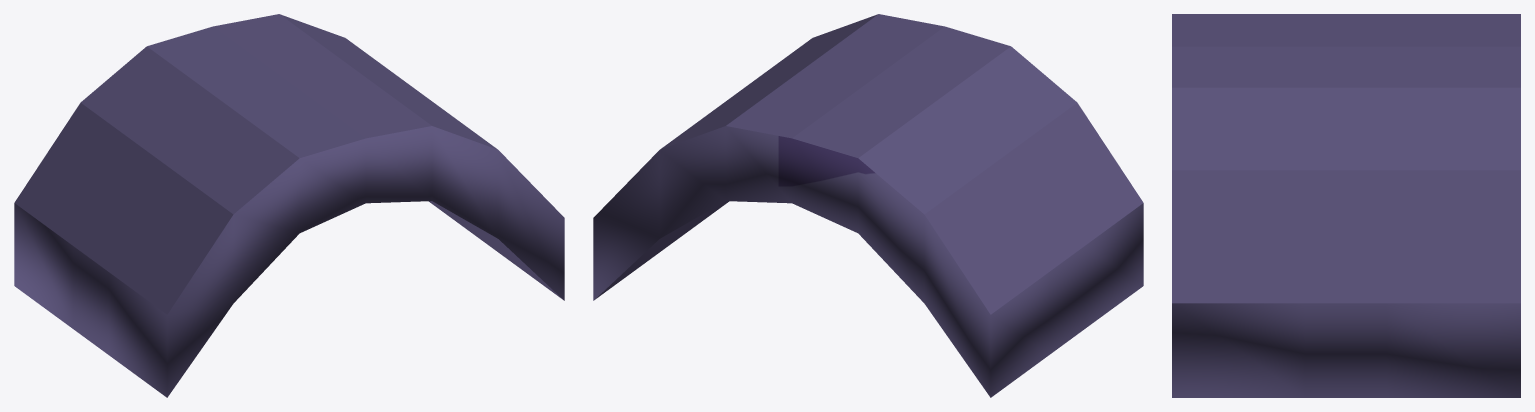
The model's file is road_rise_singular.obj.
The picture shows the model from 3 angles, left to right: view 1: azimuth 30°, elevation 25°; view 2: azimuth 150°, elevation 25°; view 3: azimuth 270°, elevation 25°; orthographic projection. The views are drawn at different scales.
Visible parts, largest first — view 1: Road.003_Cube.004; view 2: Road.003_Cube.004; view 3: Road.003_Cube.004.
Boxes of the visible parts, x1=… form: Road.003_Cube.004: x1=14, y1=14, x2=564, y2=397; Road.003_Cube.004: x1=593, y1=14, x2=1143, y2=397; Road.003_Cube.004: x1=1172, y1=14, x2=1520, y2=397.
Size of the model in its own units: 6 by 3.05 by 4.
